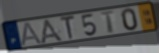0: (121, 7, 140, 32)
5: (80, 13, 98, 37)
A: (39, 18, 65, 44), (20, 21, 43, 47)
T: (59, 15, 77, 42), (99, 10, 117, 34)
